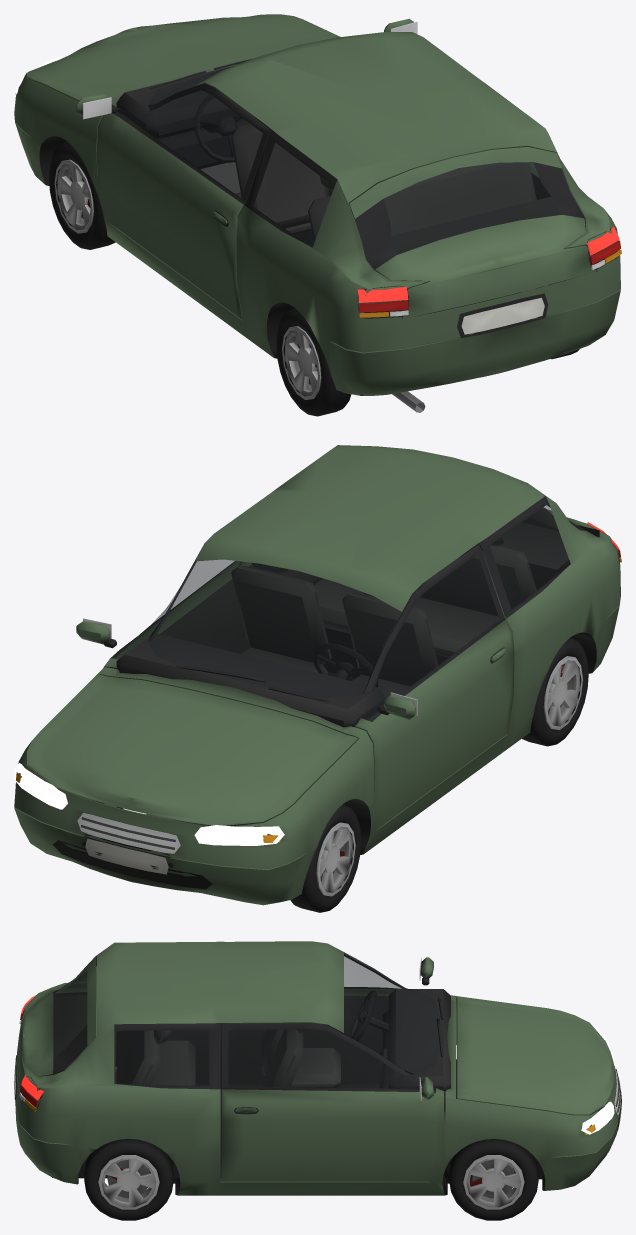
The model's file is parked_car_b.glb.
The picture shows the model from 3 angles, top to bottom: view 1: azimuth 30°, elevation 25°; view 2: azimuth 150°, elevation 25°; view 3: azimuth 270°, elevation 25°; orthographic projection. The views are drawn at different scales.
Parts seen in each view (by area): view 1: parked_car_b_body, wheel_rl, wheel_fl, lamp_tail_l; view 2: parked_car_b_body, wheel_fl, wheel_rl, lamp_head_l, lamp_head_r; view 3: parked_car_b_body, wheel_rr, wheel_fr, lamp_head_r.
Boxes of the visible parts, x1,y1,x2,y2 form: parked_car_b_body: [14, 14, 621, 412]; wheel_rl: [276, 307, 351, 416]; wheel_fl: [49, 141, 115, 249]; lamp_tail_l: [357, 286, 408, 302]; parked_car_b_body: [14, 445, 621, 905]; wheel_fl: [290, 804, 361, 912]; wheel_rl: [522, 637, 588, 746]; lamp_head_l: [194, 825, 284, 845]; lamp_head_r: [14, 763, 67, 809]; parked_car_b_body: [14, 941, 621, 1195]; wheel_rr: [84, 1139, 173, 1220]; wheel_fr: [449, 1139, 538, 1220]; lamp_head_r: [581, 1101, 614, 1134].
Size of what is drawn, in the model's own units: 2.12 by 1.45 by 4.1.
